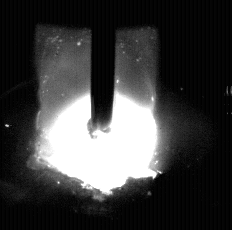arame: (88, 0, 111, 187)
poca: (35, 0, 158, 230)
